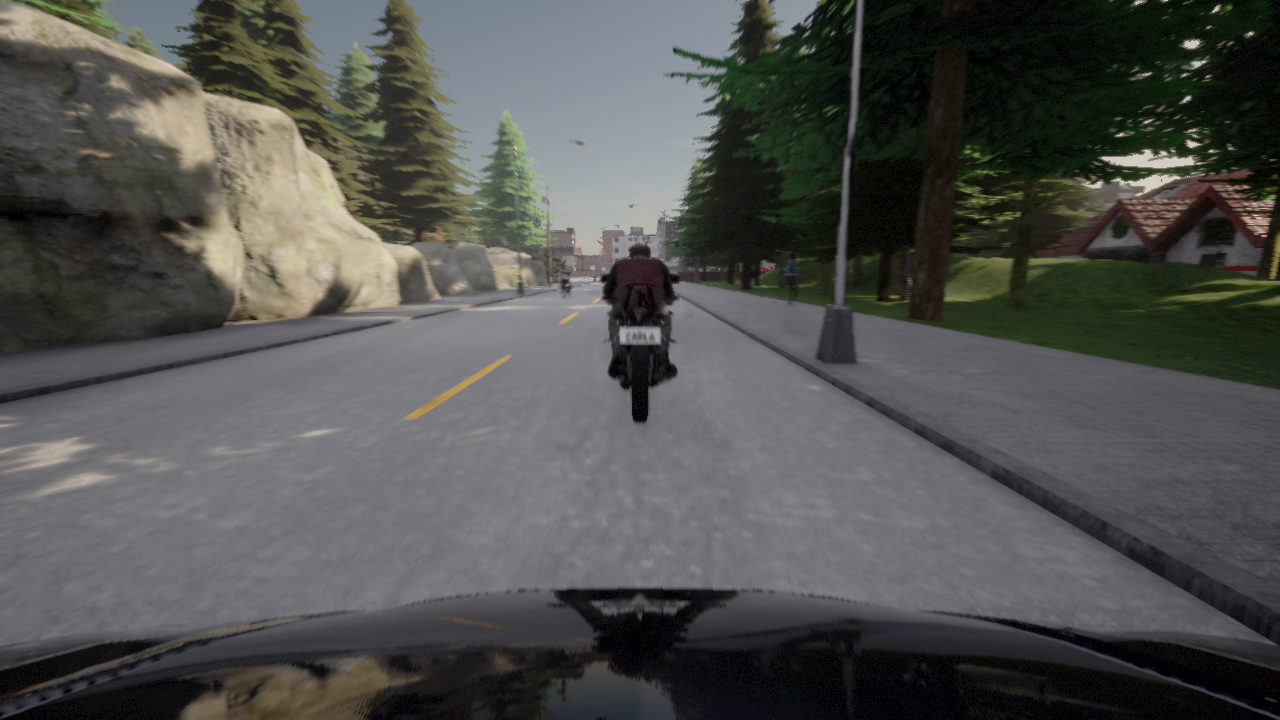cyclist: (0, 588, 1279, 719), (600, 274, 679, 422), (557, 273, 573, 298), (669, 272, 675, 273)
pedestrian: (786, 253, 800, 303), (554, 265, 560, 287), (561, 266, 564, 272)
